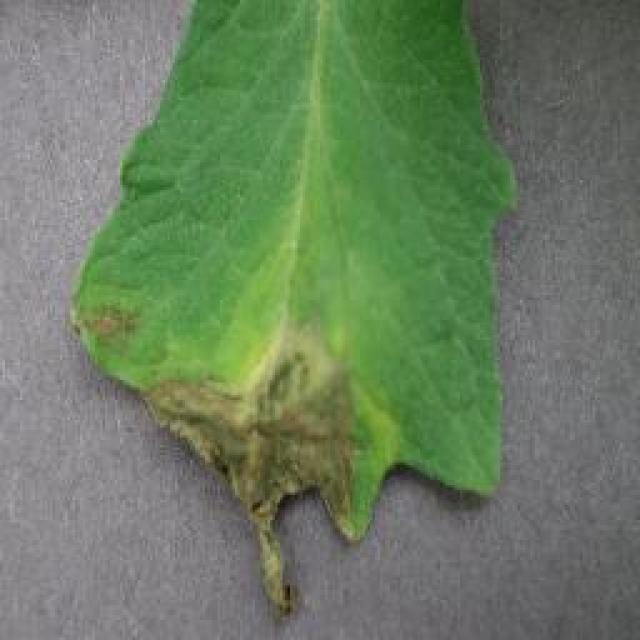Tomato Late Blight: (89, 283, 388, 537)
